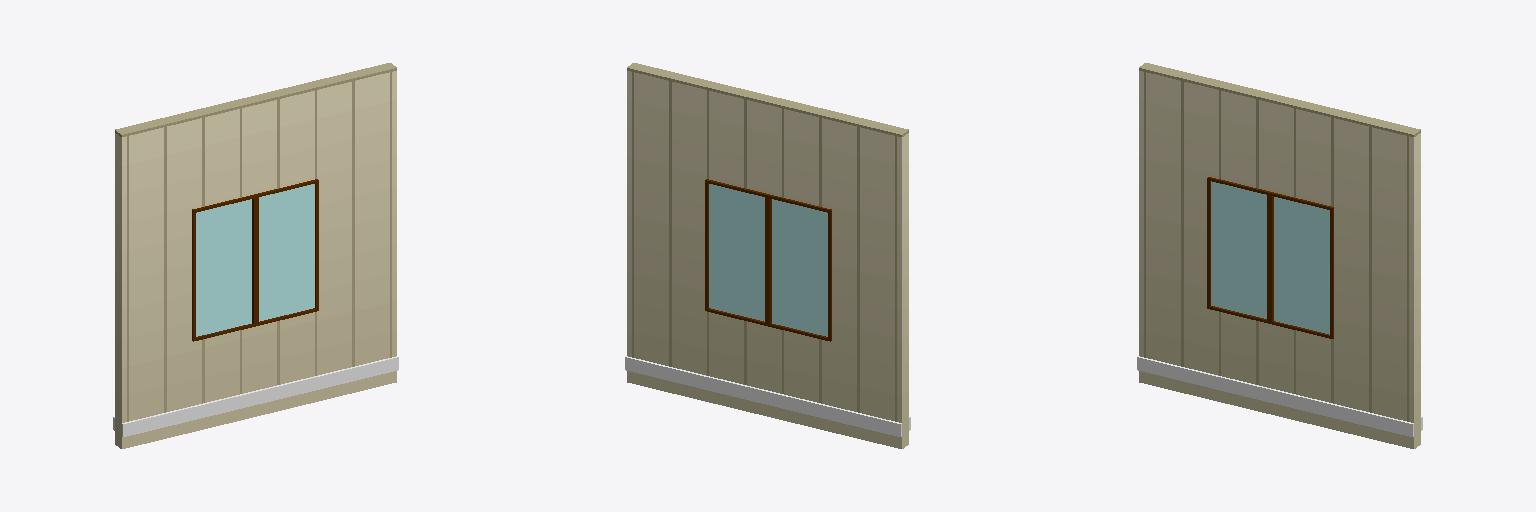
3 renders of one model, left to right at view 1: azimuth 30°, elevation 25°; view 2: azimuth 150°, elevation 25°; view 3: azimuth 330°, elevation 25°, orthographic.
Visible parts, largest first — view 1: object 1; view 2: object 1; view 3: object 1.
Boxes of the visible parts, x1=… form: object 1: x1=113, y1=63, x2=398, y2=448; object 1: x1=625, y1=63, x2=910, y2=448; object 1: x1=1137, y1=63, x2=1422, y2=448.
Bounding box in the file's own units: 11 × 12 × 0.7.
Materials: 1 (1 with a texture image).